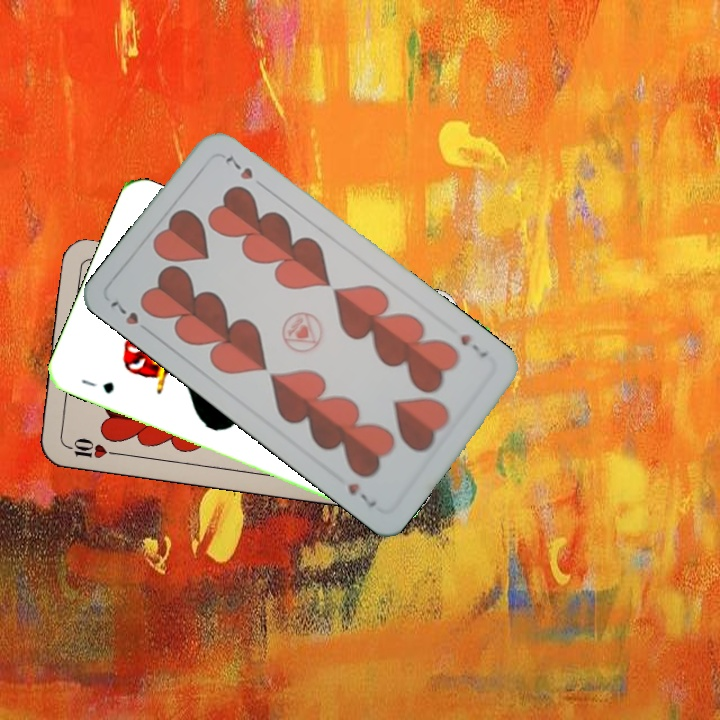GU: (77, 375, 117, 397)
H10: (61, 434, 120, 462)
H7: (106, 296, 155, 337), (456, 330, 490, 362)
